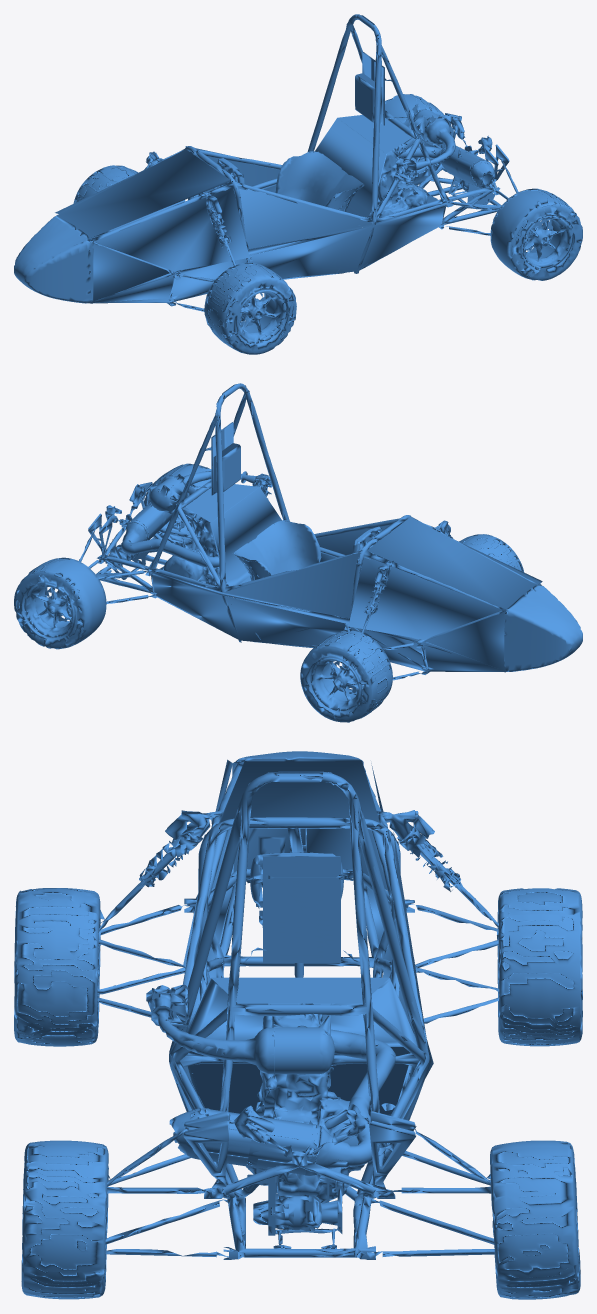
The model's file is helix-car.glb.
3 views of the same model, one above another, from view 1: azimuth 30°, elevation 25°; view 2: azimuth 150°, elevation 25°; view 3: azimuth 270°, elevation 25° (orthographic). The views are drawn at different scales.
Parts seen in each view (by area): view 1: Helix Formula Student car; view 2: Helix Formula Student car; view 3: Helix Formula Student car.
Boxes of the visible parts, left/top/right/bottom form: Helix Formula Student car: left=14, top=14, right=582, bottom=354; Helix Formula Student car: left=14, top=383, right=582, bottom=722; Helix Formula Student car: left=14, top=751, right=582, bottom=1299.
Size of the model in its own units: 2.65 by 1.21 by 1.46.
